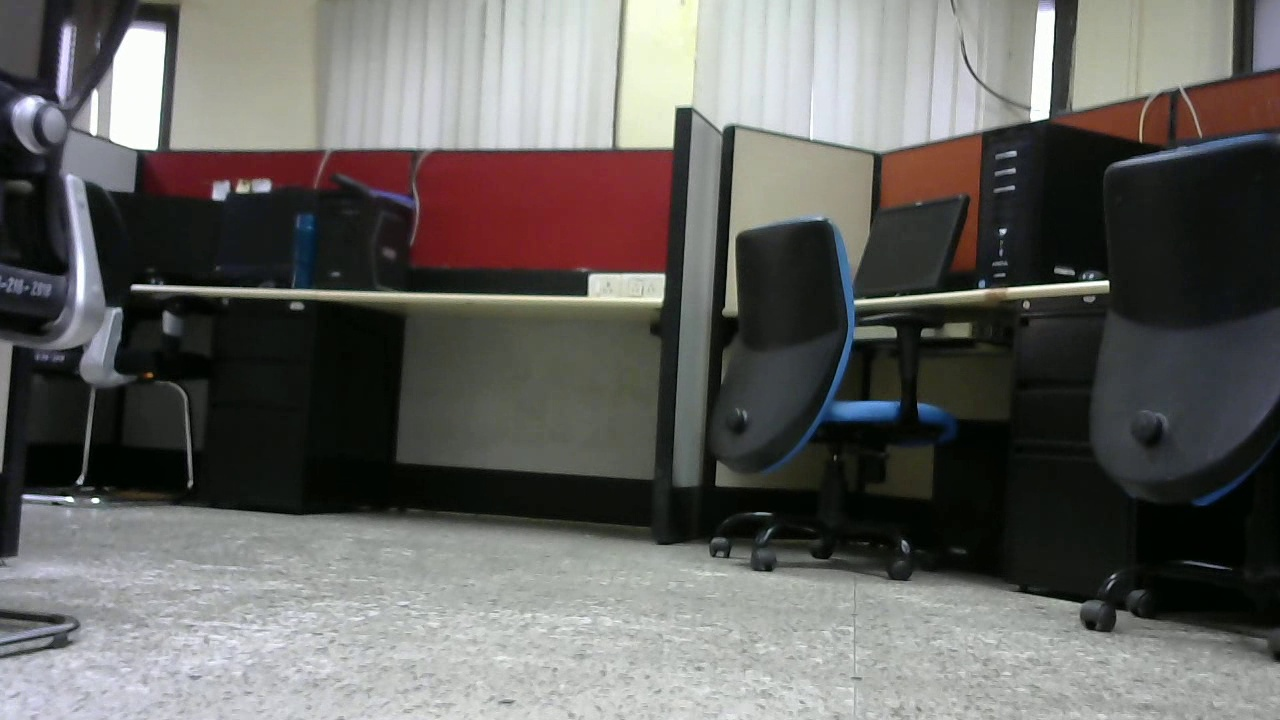chair: (677, 217, 961, 582)
